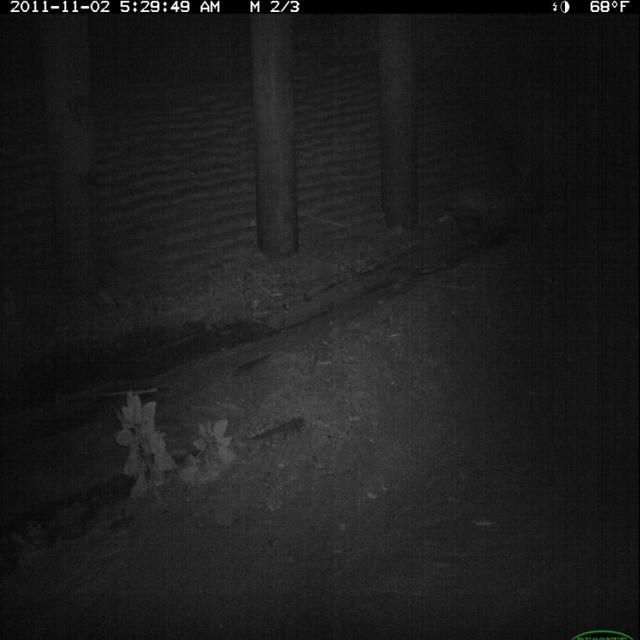opossum: (448, 198, 492, 248)
